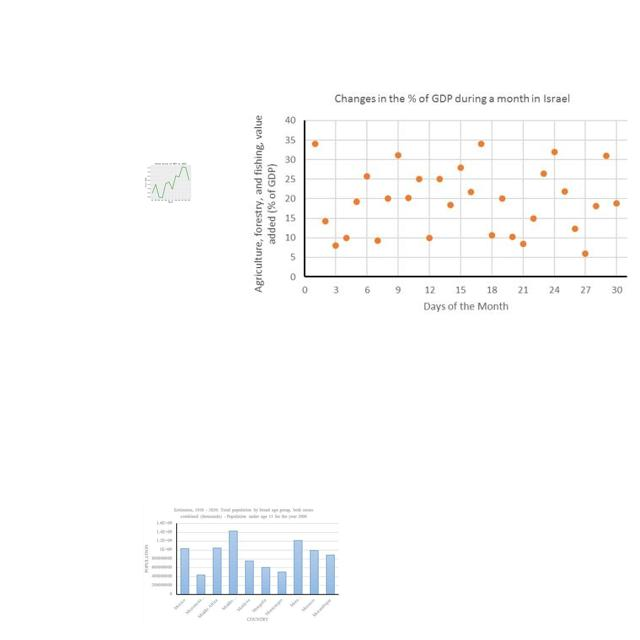Graph: (243, 85, 640, 317), (143, 505, 342, 623), (141, 160, 199, 204)
